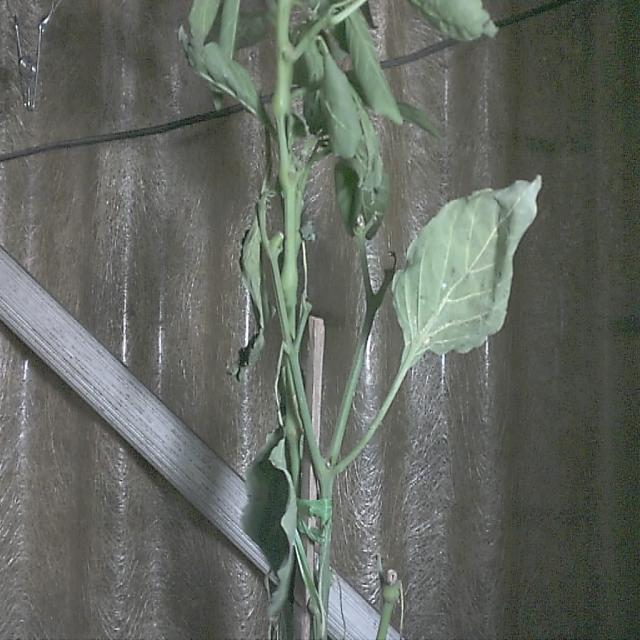Leaf: (390, 172, 543, 354)
